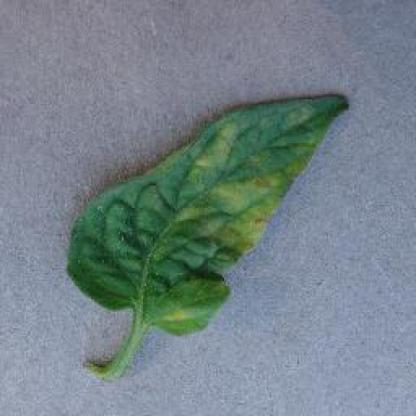Tomato_Leaf_Mold: (64, 92, 345, 337)
